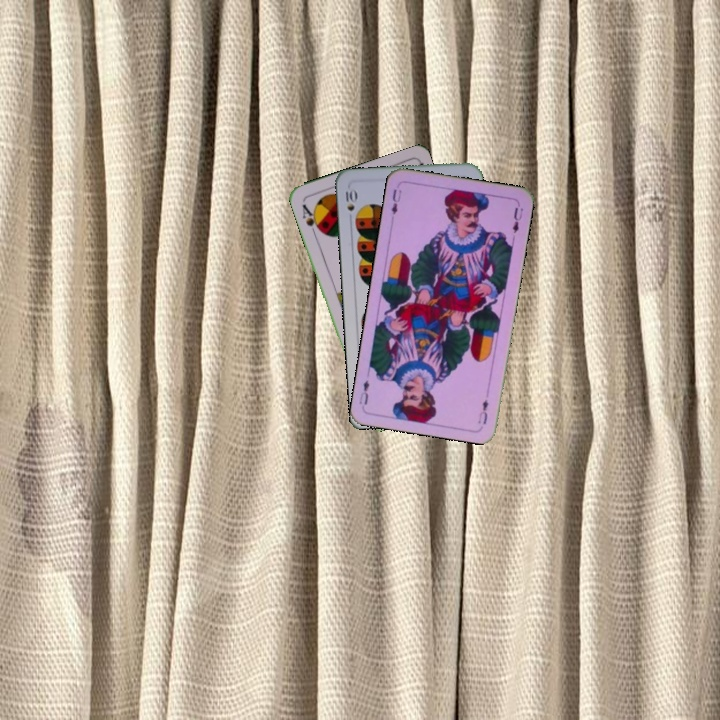EU: (387, 185, 404, 217), (474, 395, 491, 427)
S10: (341, 185, 359, 224)
SA: (298, 200, 324, 238)
